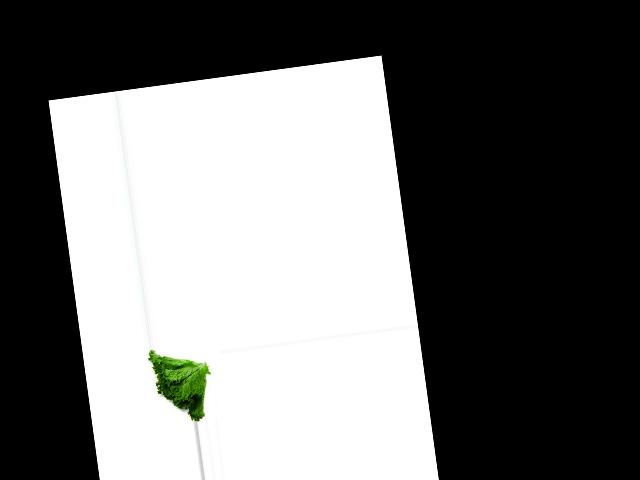lettuce: (145, 342, 215, 427)
